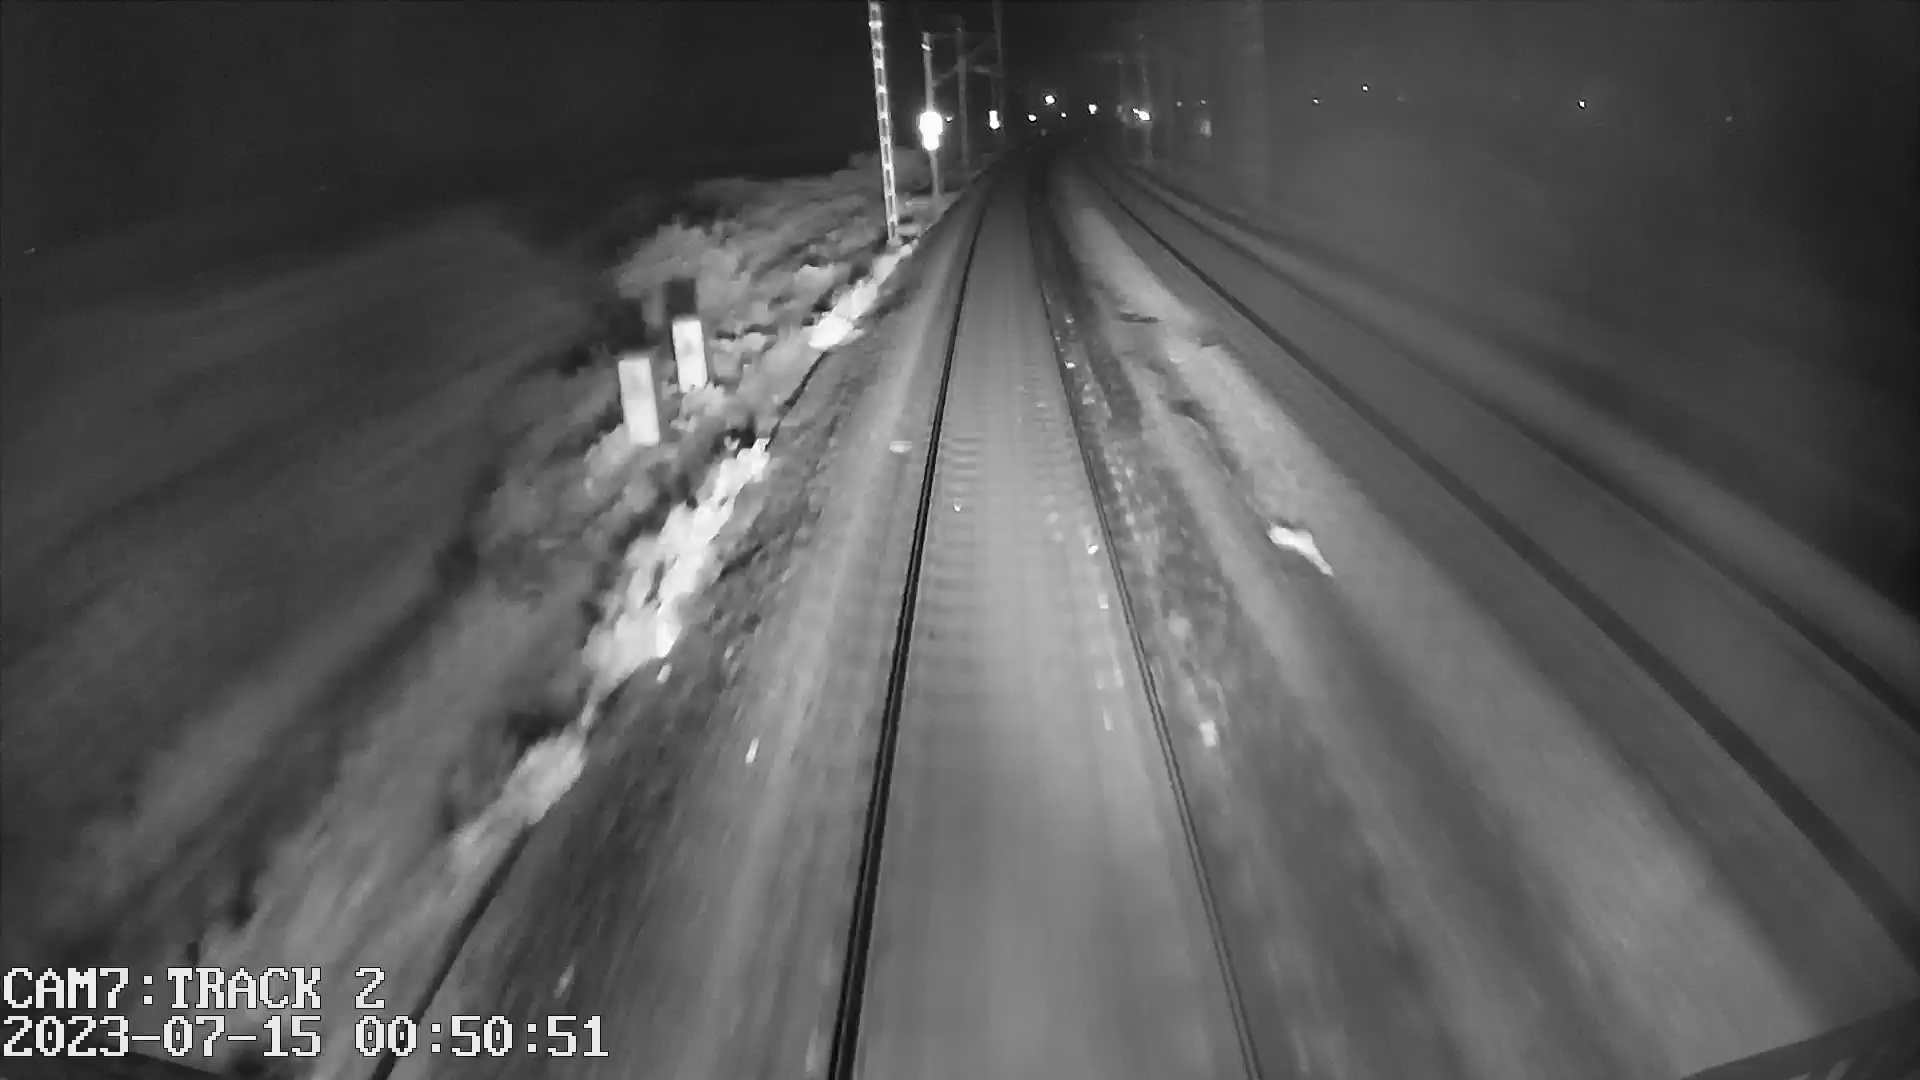track1: (839, 178, 1249, 1056)
track2: (1097, 174, 1908, 848)
